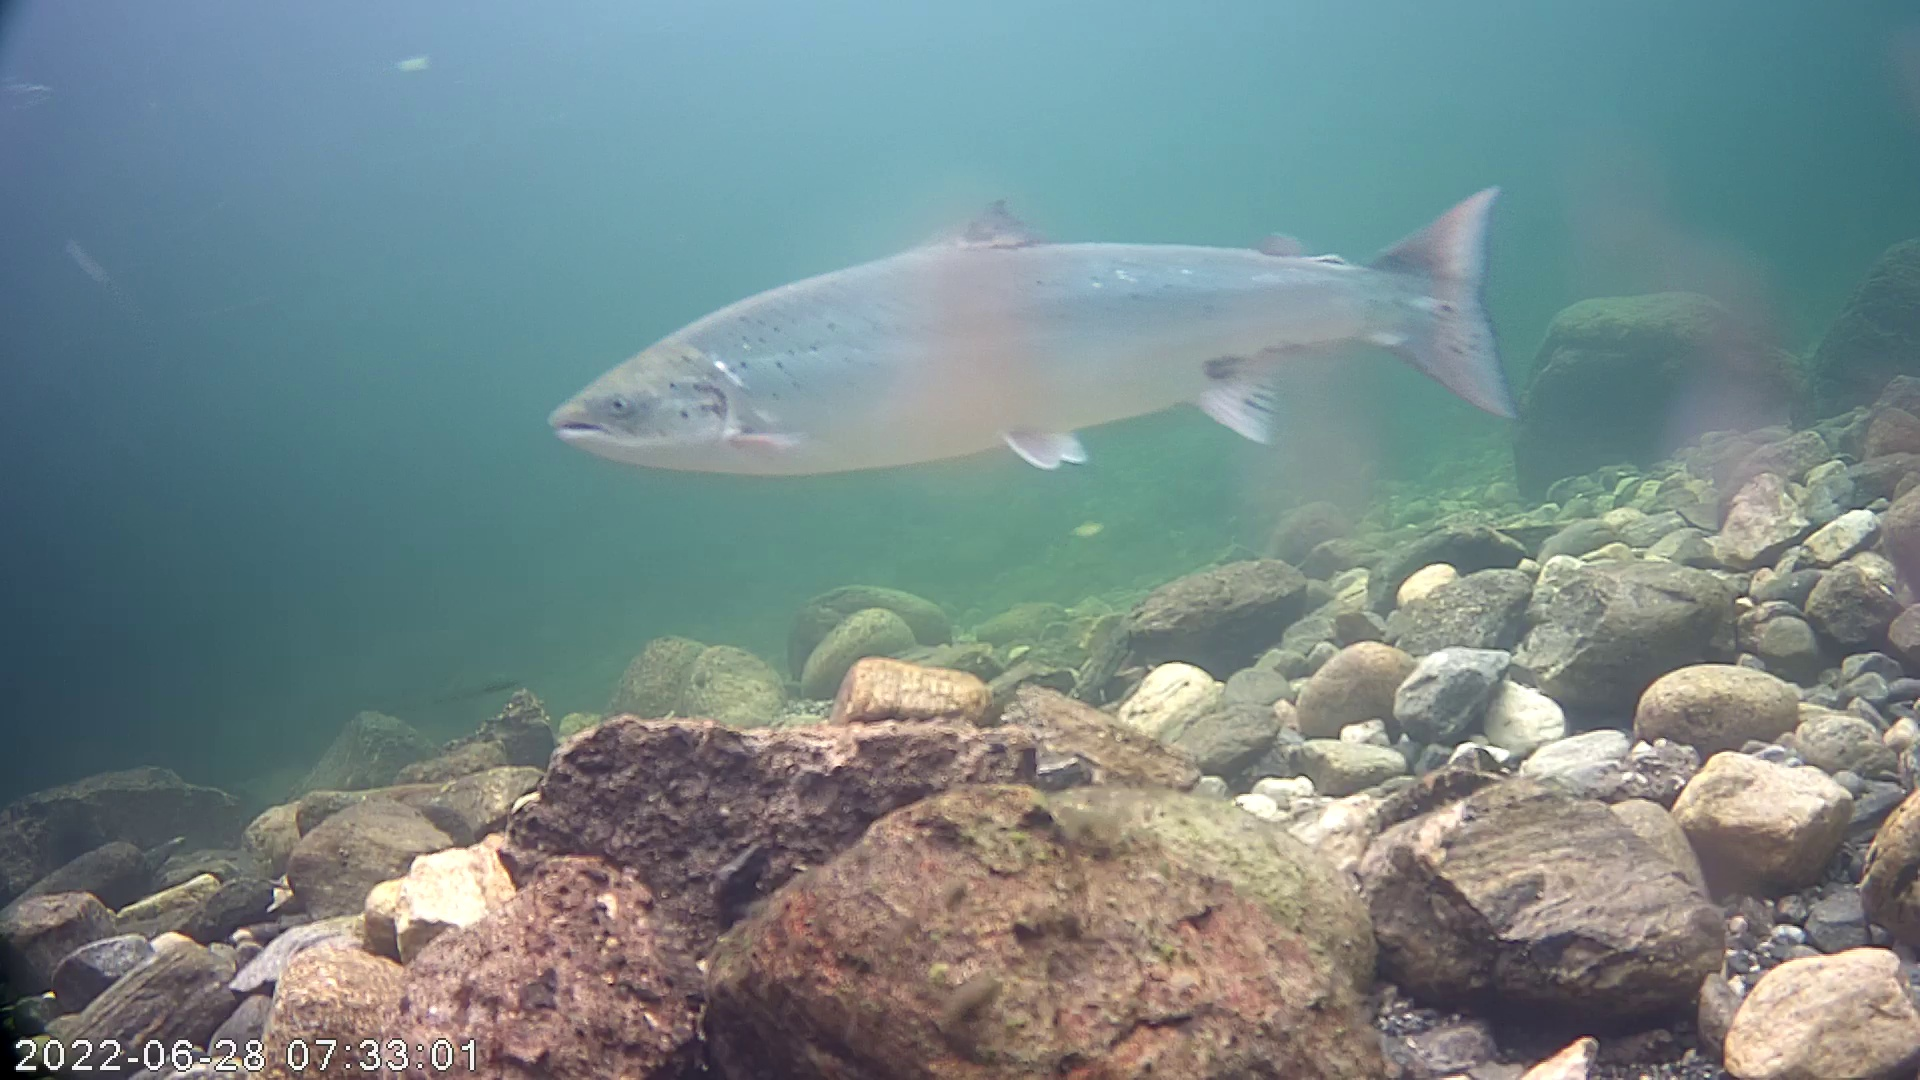salmon: (530, 107, 1553, 555)
